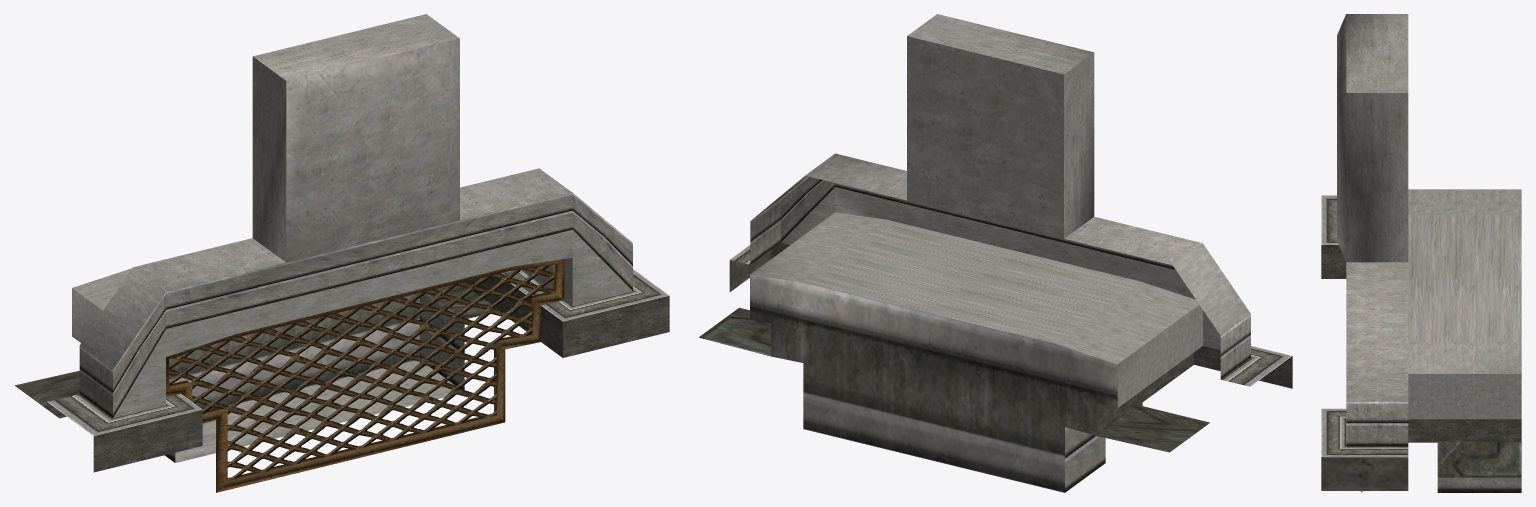
File: DWARF_PALACE_WATERROOM_CANAL_VENT08.fbx
3 renders of one model, left to right at view 1: azimuth 30°, elevation 25°; view 2: azimuth 150°, elevation 25°; view 3: azimuth 270°, elevation 25°, orthographic. The views are drawn at different scales.
Visible parts, largest first — view 1: DWARF_PALACE_WATERROOM_CANAL_VENT08; view 2: DWARF_PALACE_WATERROOM_CANAL_VENT08; view 3: DWARF_PALACE_WATERROOM_CANAL_VENT08.
Part boxes in pixels (bbox=[...]): DWARF_PALACE_WATERROOM_CANAL_VENT08: bbox=[14, 14, 669, 492]; DWARF_PALACE_WATERROOM_CANAL_VENT08: bbox=[699, 14, 1292, 492]; DWARF_PALACE_WATERROOM_CANAL_VENT08: bbox=[1321, 14, 1521, 492].
Bounding box in the file's own units: 49728 × 33273 × 16097.
7 materials, 7 textured.
